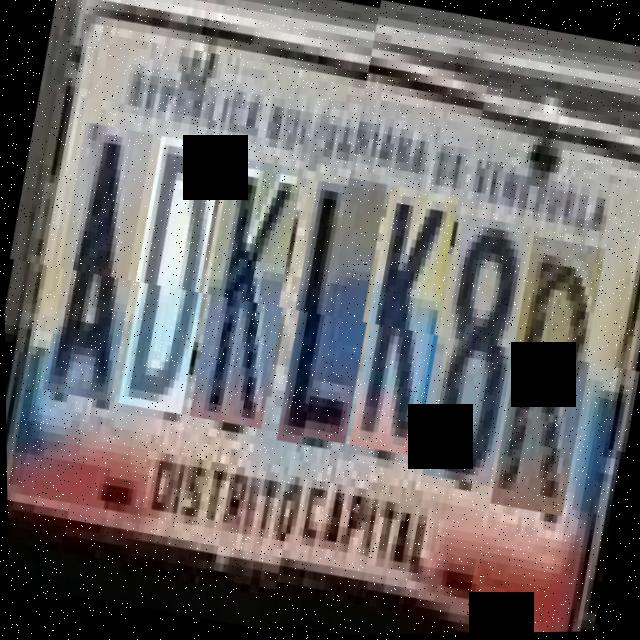8: (416, 225, 536, 497)
A: (38, 122, 160, 403)
D: (114, 136, 232, 416)
K: (184, 157, 311, 431), (343, 194, 463, 468)
L: (272, 181, 393, 454)
R: (484, 245, 611, 527)
